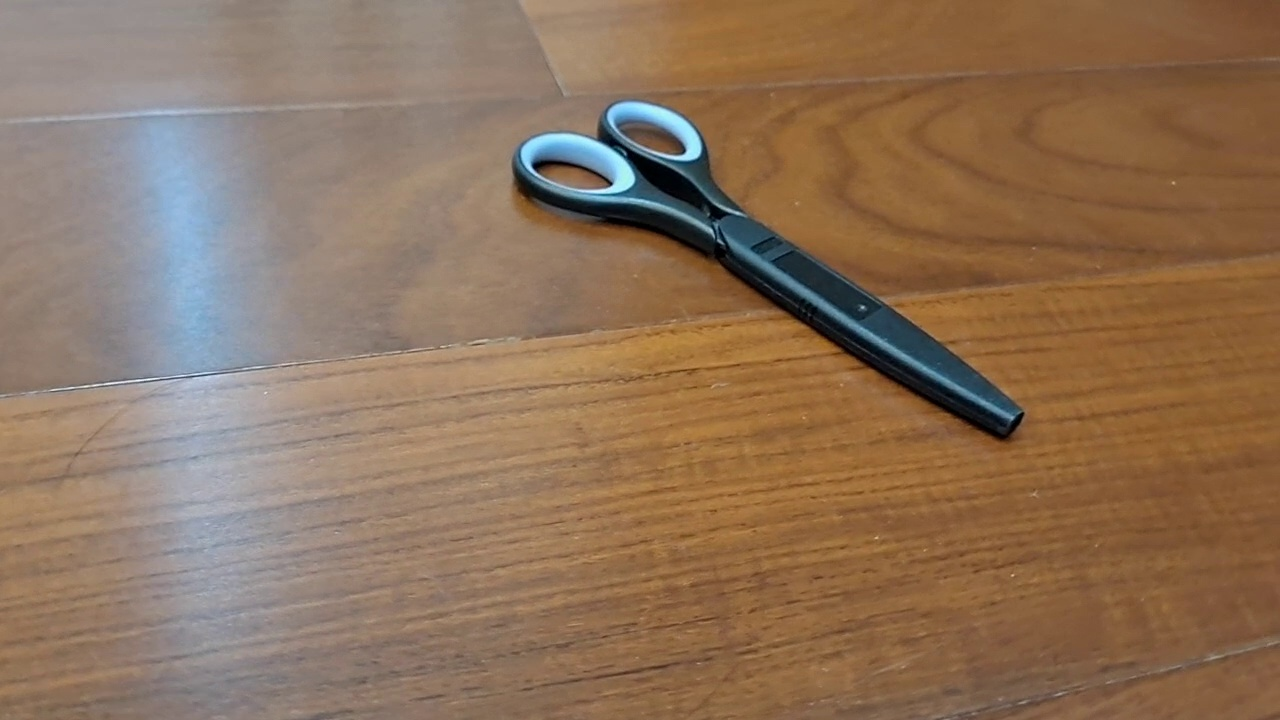scissors: (511, 98, 1026, 442)
